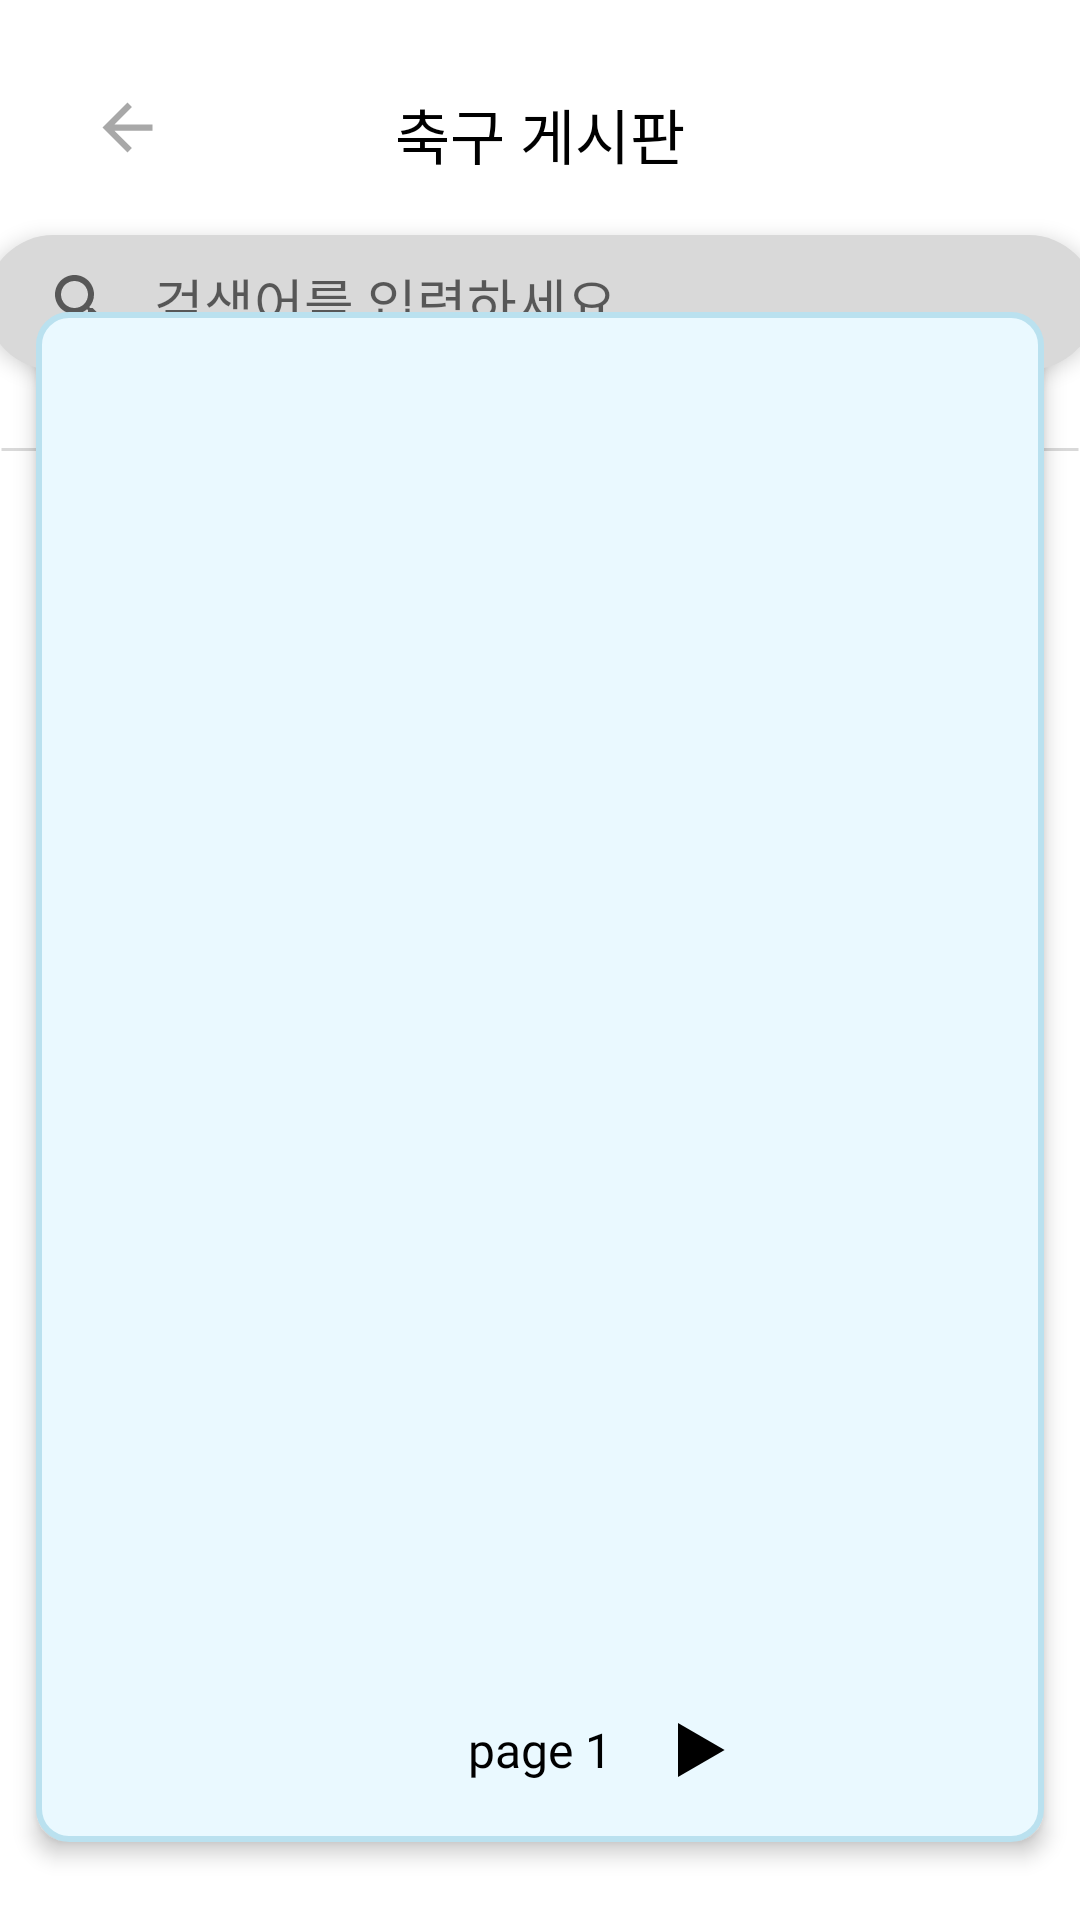

Where icons sit on this 1080px x 1920px app screen, as (x1, y1, x2, y2):
arrow back: (103, 103, 153, 152)
board title next: (678, 1723, 725, 1777)
